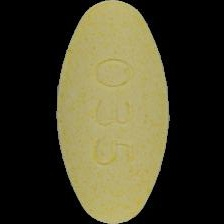0440-1736: (0, 0, 224, 224)
